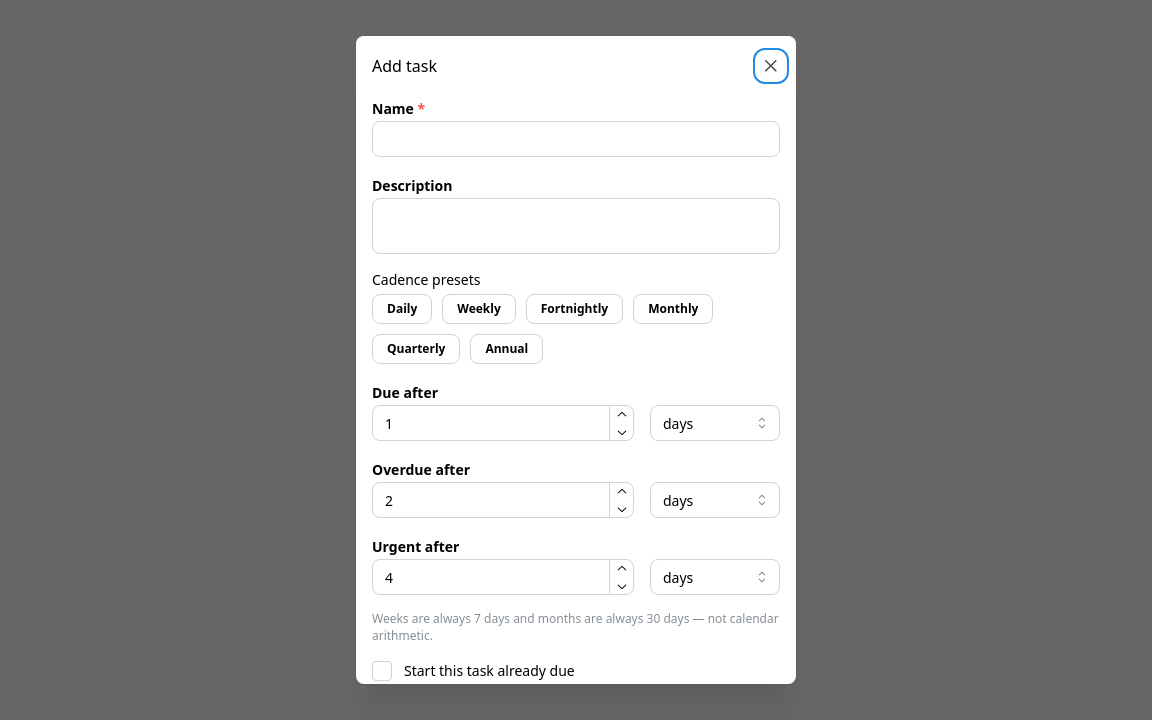
TaskFormModal validation › shows an error when overdue does not exceed due
Clear the field labelled "Overdue after" at (503, 500), box top-left (372, 482), bottom-right (634, 518)
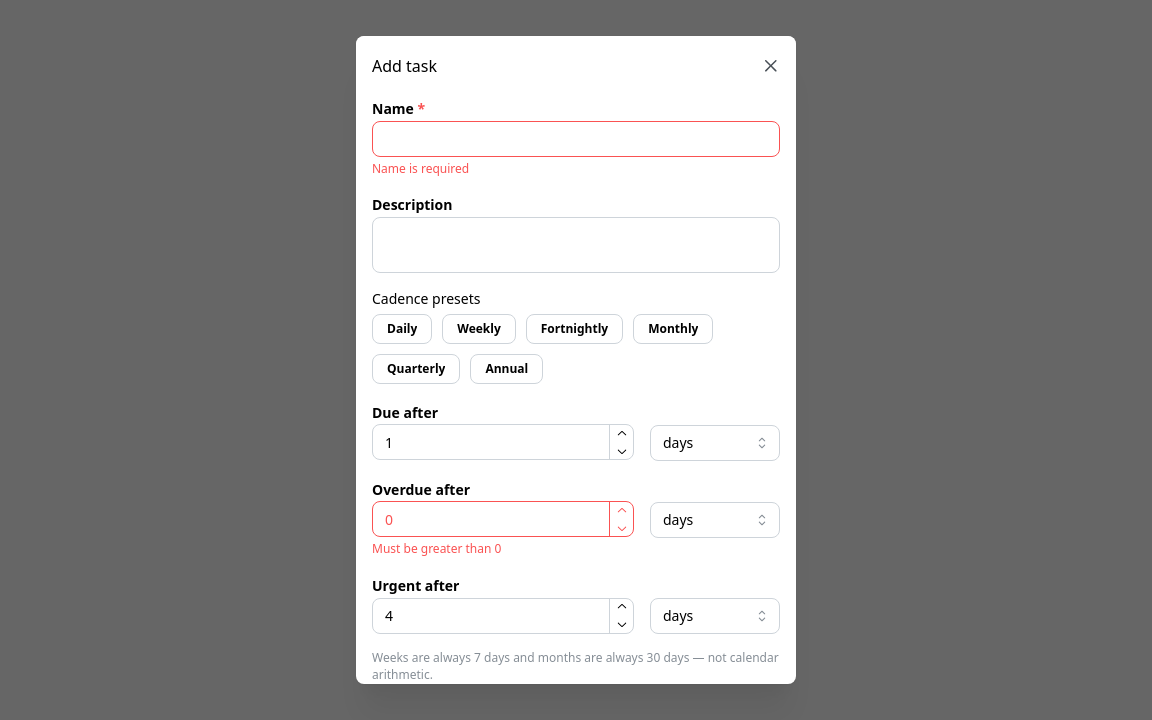
Type "10" into the field labelled "Overdue after" at (503, 520), box top-left (372, 502), bottom-right (634, 538)
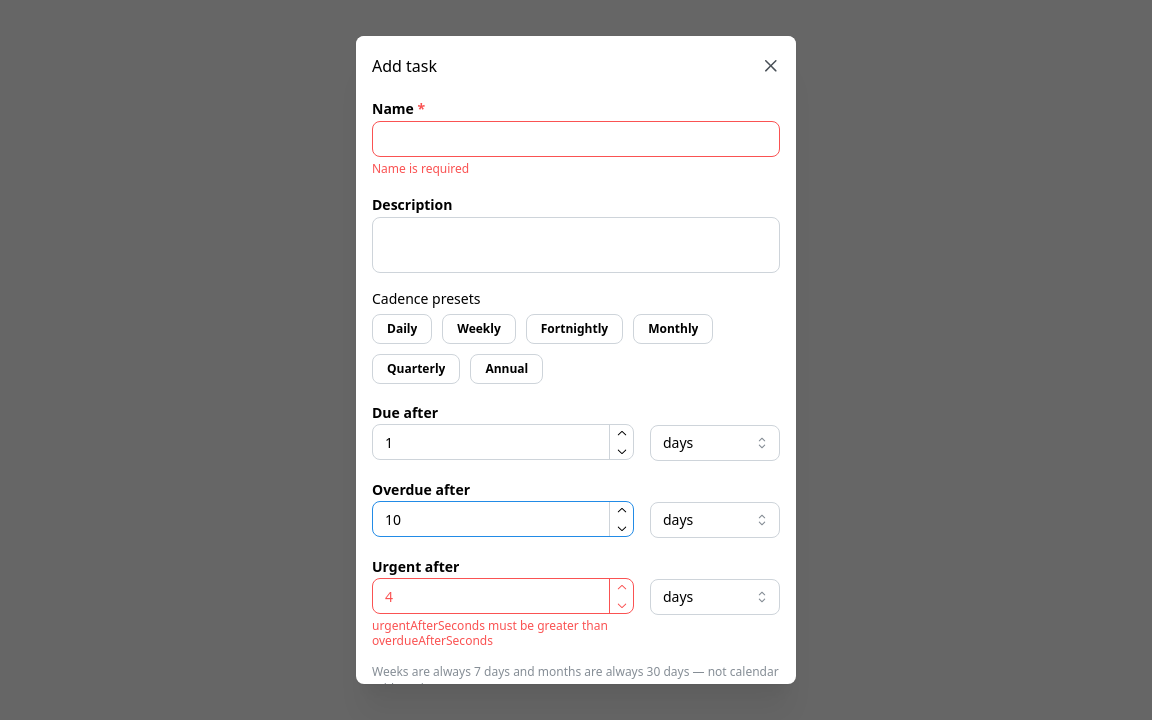
Replace the text in the field labelled "Due after" with "20" at (503, 442), box top-left (372, 424), bottom-right (634, 460)
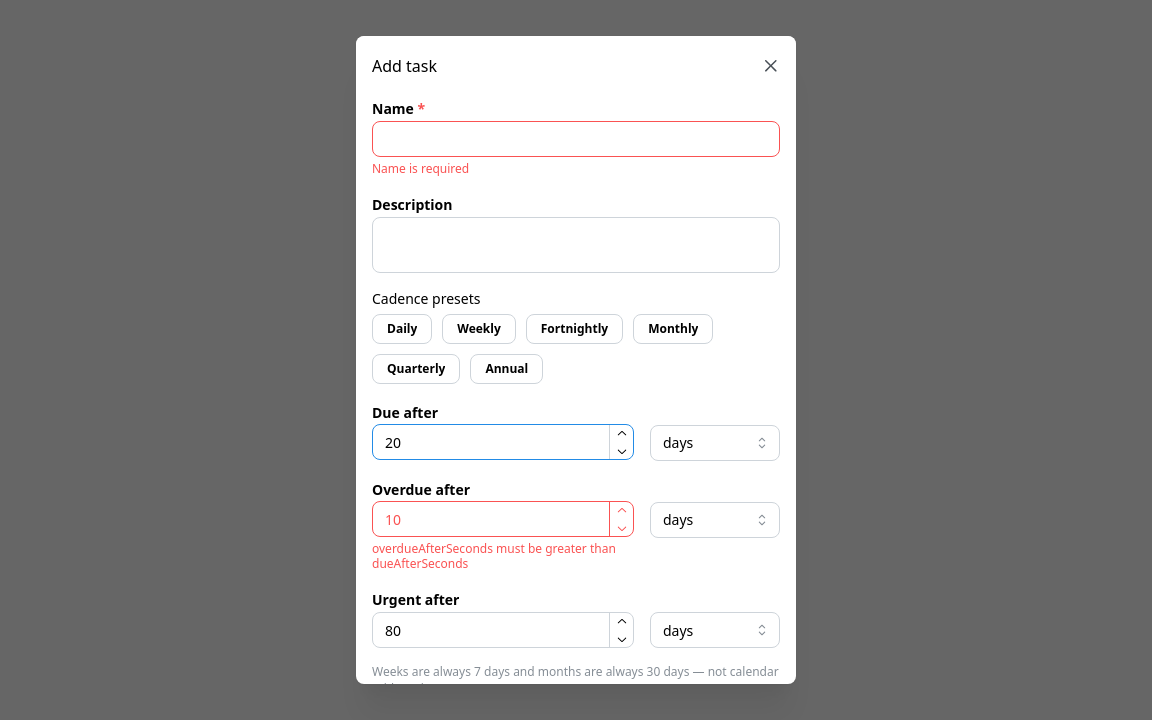
Now the text "overdueAfterSeconds must be greater than dueAfterSeconds" is shown, box top-left (372, 542), bottom-right (634, 571)
